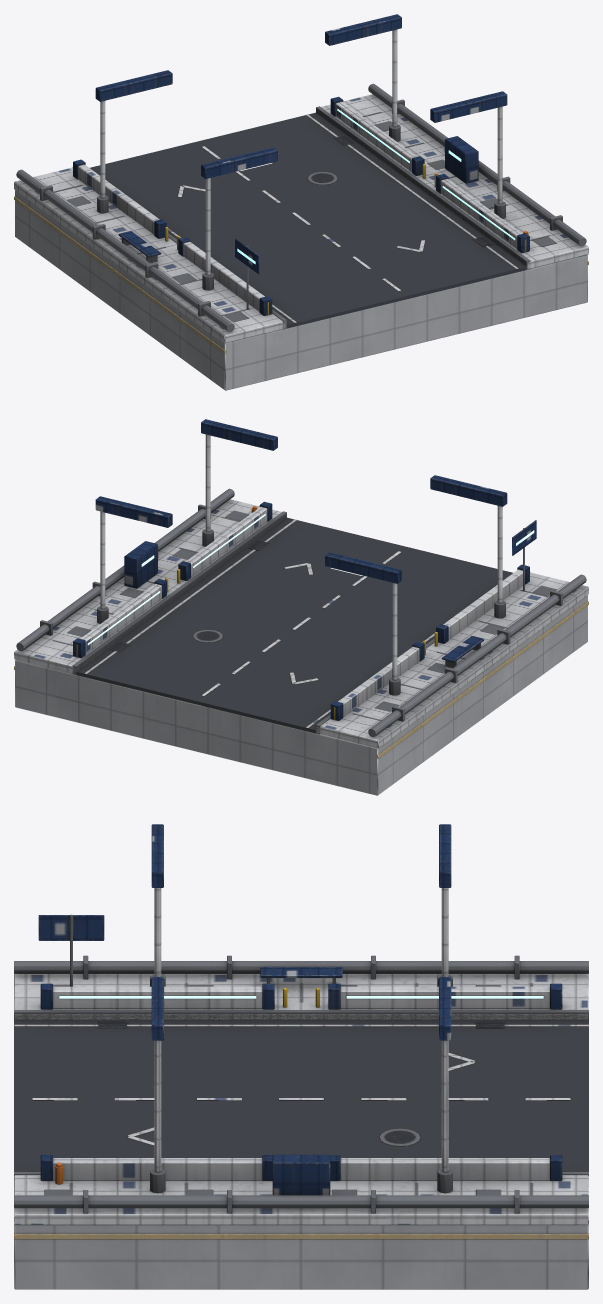
Rendered from 重製_直線道路.glb.
3 renders of one model, top to bottom at view 1: azimuth 30°, elevation 25°; view 2: azimuth 150°, elevation 25°; view 3: azimuth 270°, elevation 25°, orthographic. The views are drawn at different scales.
Visible parts, largest first — view 1: Road_st_Mesh; view 2: Road_st_Mesh; view 3: Road_st_Mesh.
Boxes of the visible parts, box(x1,y1,x2,y2) form: Road_st_Mesh: box(14, 14, 588, 390); Road_st_Mesh: box(14, 419, 588, 795); Road_st_Mesh: box(14, 824, 588, 1289).
Bounding box in the file's own units: 14 × 6.57 × 14.
3 materials, 1 textured.
